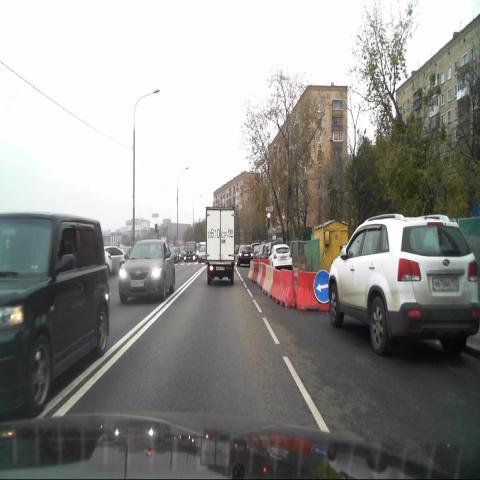4_1_2_2: (314, 269, 330, 304)
